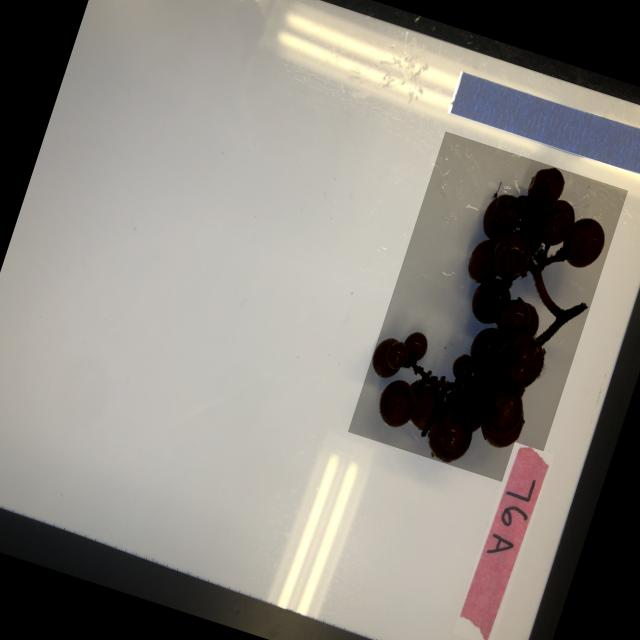grape_cluster: (347, 131, 627, 491)
index: (451, 442, 553, 640)
measure_label: (446, 71, 640, 182)
